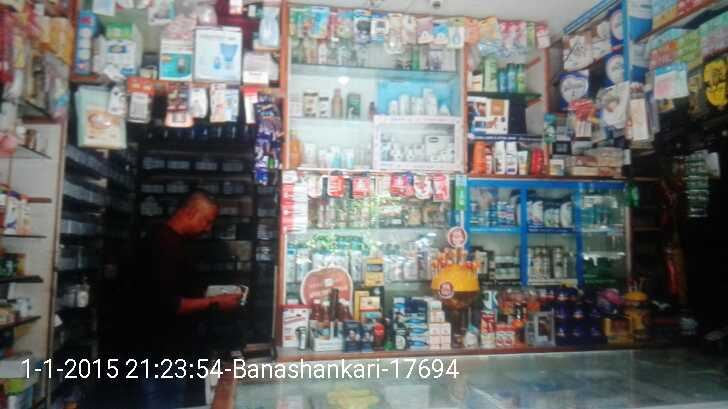beauty: (493, 254, 519, 279), (545, 197, 559, 228), (562, 196, 574, 229), (532, 197, 544, 226), (552, 246, 563, 276), (532, 247, 542, 276), (691, 30, 692, 31)
